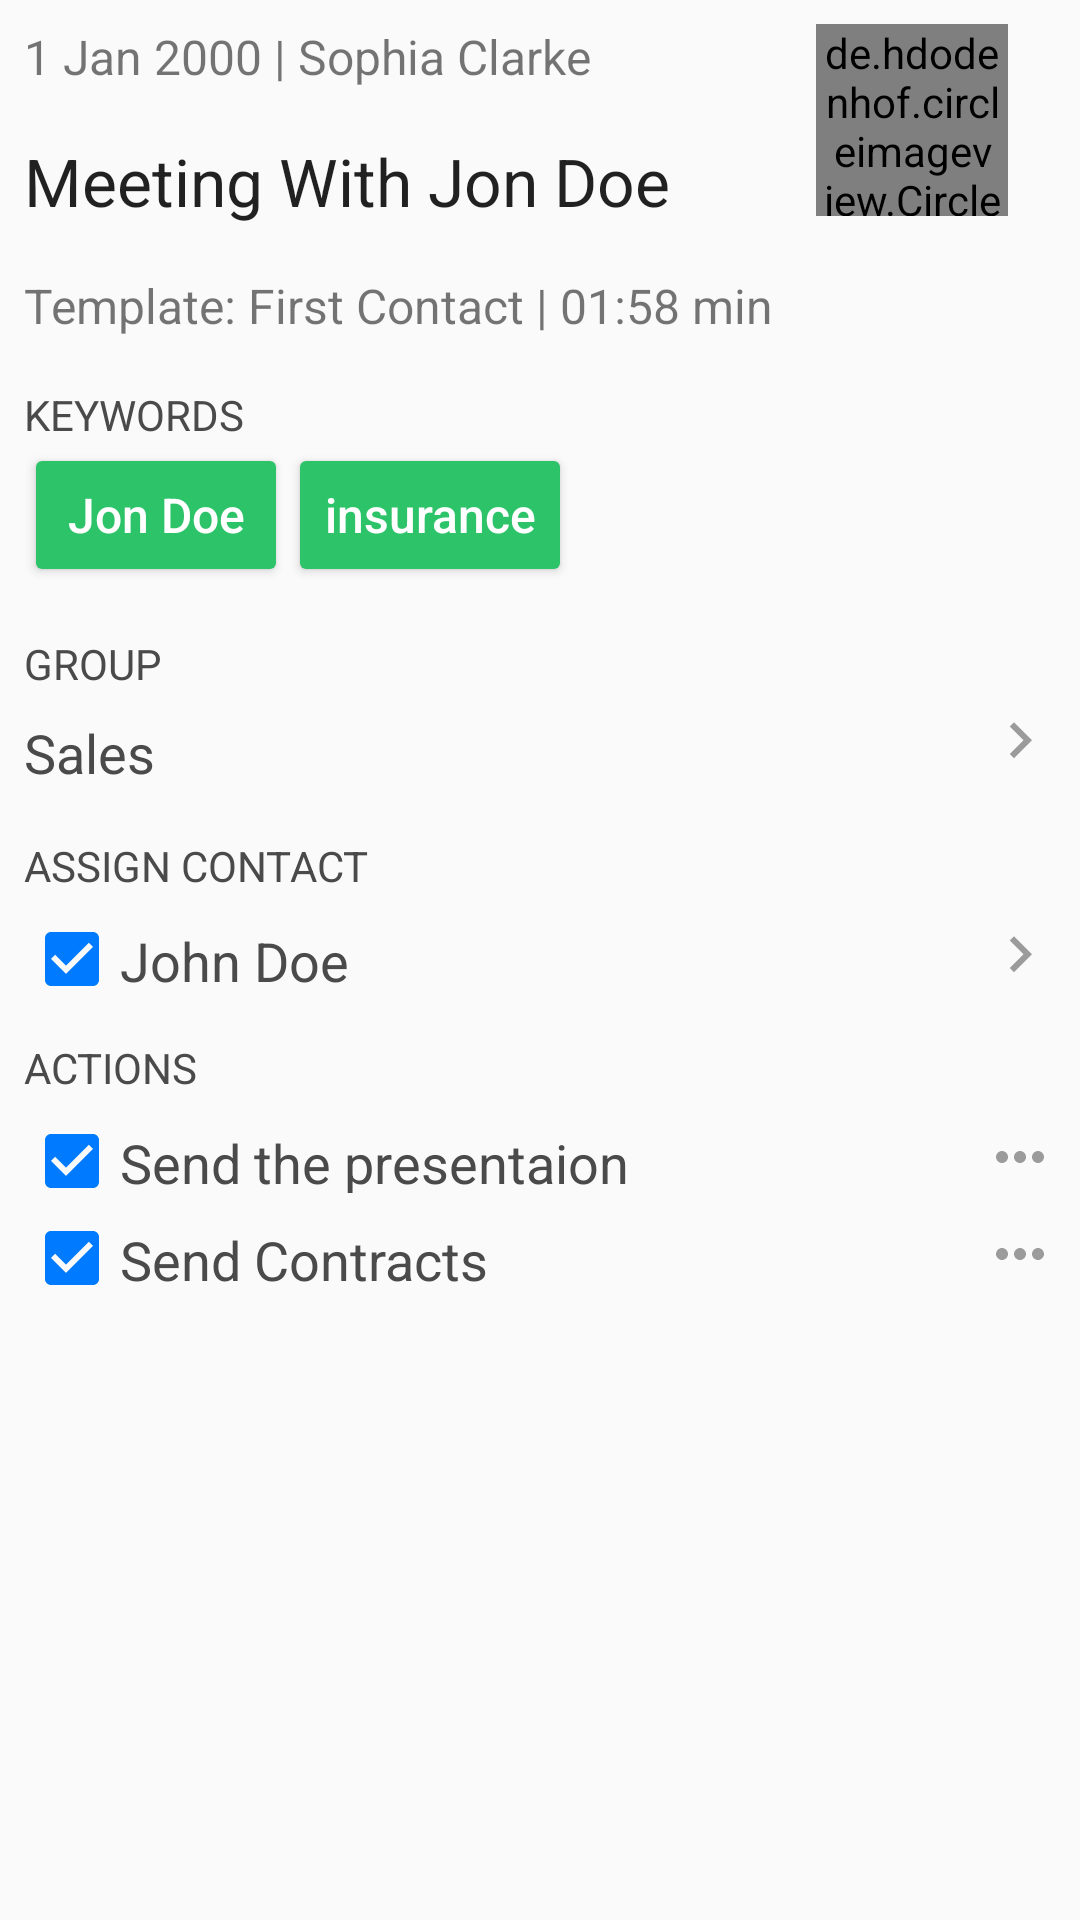

Point at icon controls on the screen. Image size 1080x1920, points as [x,y].
arrow right: [1021,740], [1021,954]
more: [1020,1157], [1020,1254]
